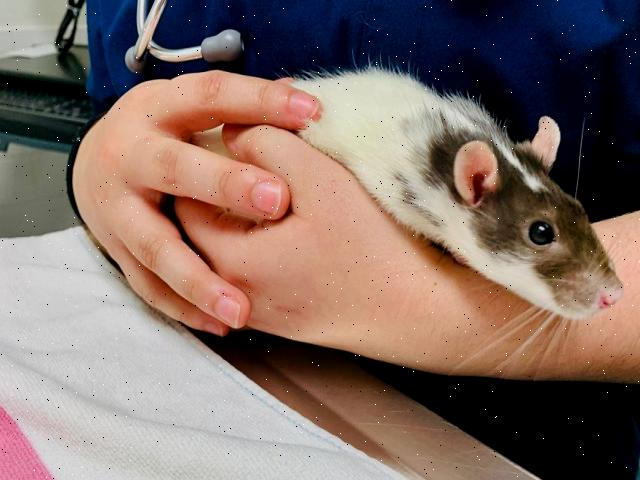Tikus: (300, 66, 634, 318)
